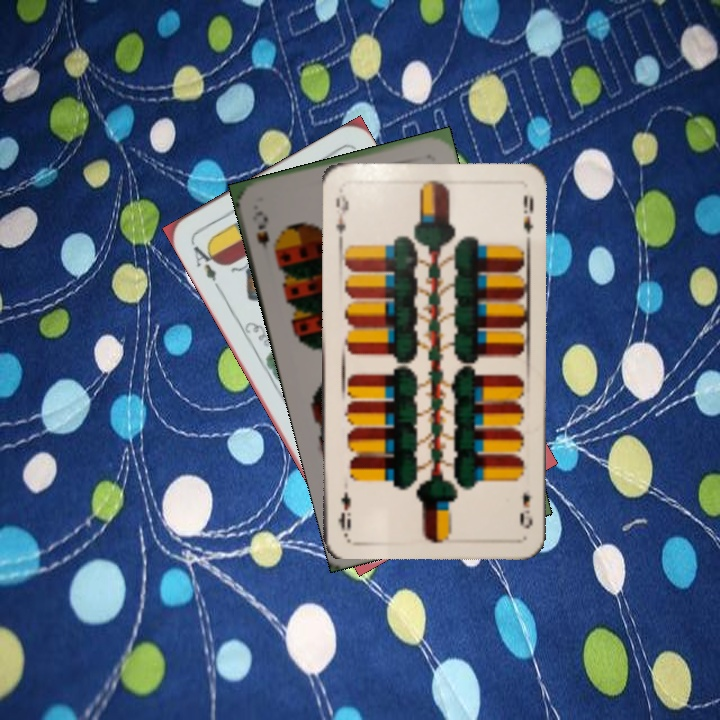E9: (332, 191, 351, 245), (516, 488, 535, 531)
EA: (189, 240, 223, 293)
S9: (247, 206, 272, 253)
